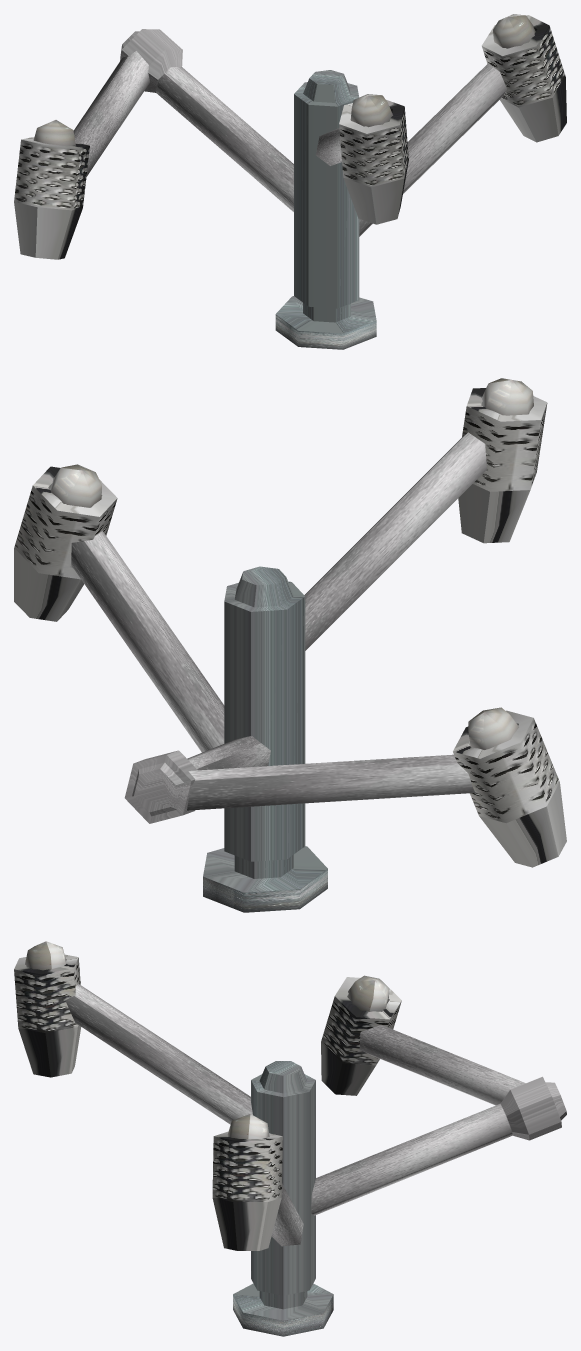
The model's file is lamp_liv.FBX.
The picture shows the model from 3 angles, top to bottom: view 1: azimuth 30°, elevation 25°; view 2: azimuth 150°, elevation 25°; view 3: azimuth 270°, elevation 25°; orthographic projection. The views are drawn at different scales.
Visible parts, largest first — view 1: Cylinder001, Cylinder004, Cylinder006, Cylinder007, Cylinder008, Cylinder003, Cylinder005, Sphere002, Sphere003, Sphere001, Cylinder002; view 2: Cylinder001, Cylinder005, Cylinder003, Cylinder006, Cylinder002, Cylinder007, Cylinder008, Cylinder004, Sphere002, Sphere003, Sphere001; view 3: Cylinder001, Cylinder004, Cylinder007, Cylinder002, Cylinder008, Cylinder005, Cylinder006, Sphere001, Cylinder003, Sphere003, Sphere002.
Part boxes in pixels (left/top/right/bottom): Cylinder001: left=275, top=70, right=376, bottom=349; Cylinder004: left=120, top=29, right=293, bottom=211; Cylinder006: left=14, top=137, right=89, bottom=259; Cylinder007: left=481, top=15, right=566, bottom=142; Cylinder008: left=339, top=100, right=408, bottom=224; Cylinder003: left=359, top=63, right=506, bottom=236; Cylinder005: left=73, top=51, right=149, bottom=176; Sphere002: left=493, top=14, right=535, bottom=48; Sphere003: left=350, top=94, right=392, bottom=127; Sphere001: left=33, top=120, right=75, bottom=145; Cylinder002: left=316, top=128, right=341, bottom=165; Cylinder001: left=203, top=566, right=327, bottom=912; Cylinder005: left=181, top=754, right=474, bottom=810; Cylinder003: left=71, top=531, right=224, bottom=752; Cylinder006: left=453, top=710, right=566, bottom=867; Cylinder002: left=304, top=432, right=486, bottom=650; Cylinder007: left=14, top=466, right=117, bottom=621; Cylinder008: left=458, top=388, right=547, bottom=543; Cylinder004: left=124, top=736, right=270, bottom=823; Sphere002: left=50, top=464, right=101, bottom=507; Sphere003: left=481, top=378, right=533, bottom=415; Sphere001: left=468, top=707, right=518, bottom=749; Cylinder001: left=233, top=1061, right=333, bottom=1336; Cylinder004: left=311, top=1076, right=566, bottom=1215; Cylinder007: left=212, top=1131, right=282, bottom=1250; Cylinder002: left=65, top=984, right=252, bottom=1124; Cylinder008: left=14, top=954, right=81, bottom=1077; Cylinder005: left=359, top=1025, right=525, bottom=1105; Cylinder006: left=321, top=977, right=401, bottom=1095; Sphere001: left=348, top=975, right=389, bottom=1011; Cylinder003: left=271, top=1183, right=303, bottom=1246; Sphere003: left=25, top=941, right=65, bottom=970; Sphere002: left=227, top=1114, right=269, bottom=1139.
Bounding box in the file's own units: 85.06 × 56.69 × 84.77.
4 materials, 4 textured.
